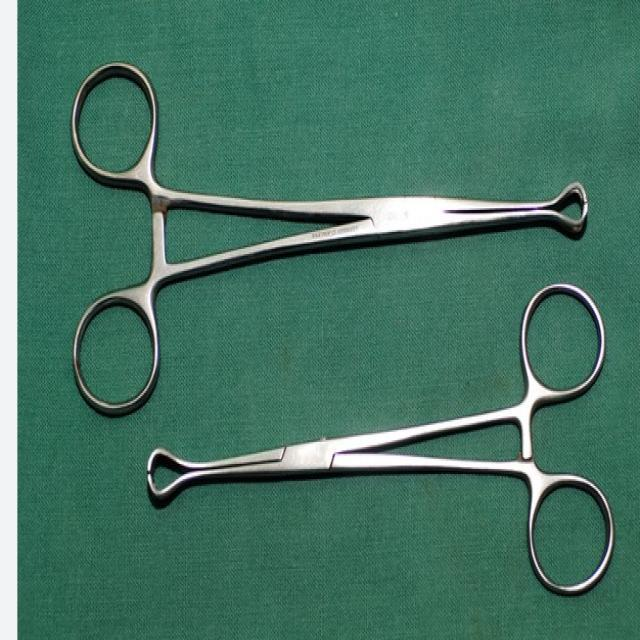Babcock Forceps: (62, 38, 590, 420), (145, 280, 616, 604)
